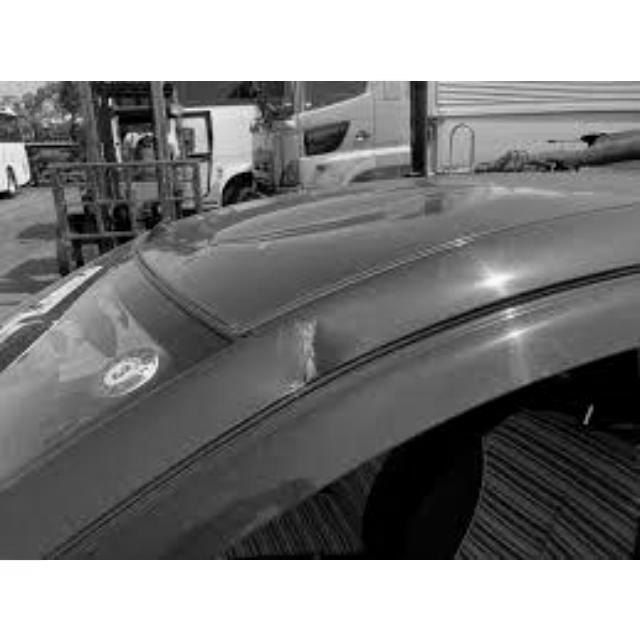roof-dent: (152, 171, 611, 405)
